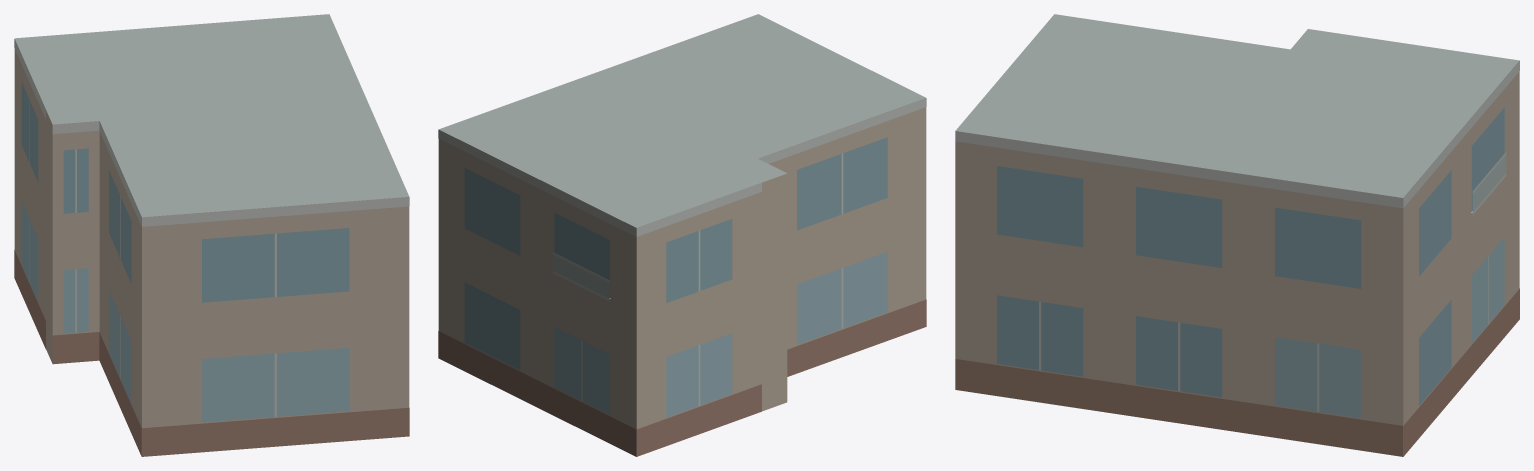
The model's file is survey-upis-32806044.glb.
The picture shows the model from 3 angles, left to right: view 1: azimuth 30°, elevation 25°; view 2: azimuth 150°, elevation 25°; view 3: azimuth 270°, elevation 25°; orthographic projection. The views are drawn at different scales.
Visible parts, largest first — view 1: survey-upis-32806044.tmp; view 2: survey-upis-32806044.tmp; view 3: survey-upis-32806044.tmp.
Boxes of the visible parts, x1,y1,x2,y2 form: survey-upis-32806044.tmp: (14,14,409,456); survey-upis-32806044.tmp: (438,14,926,456); survey-upis-32806044.tmp: (955,14,1519,456).
Size of the model in its own units: 9.31 by 6.1 by 12.07.
